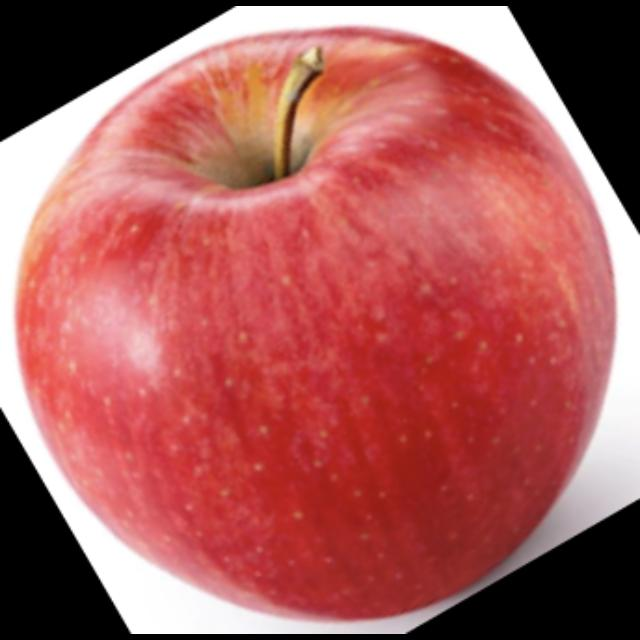Apel Segar: (4, 18, 626, 632)
